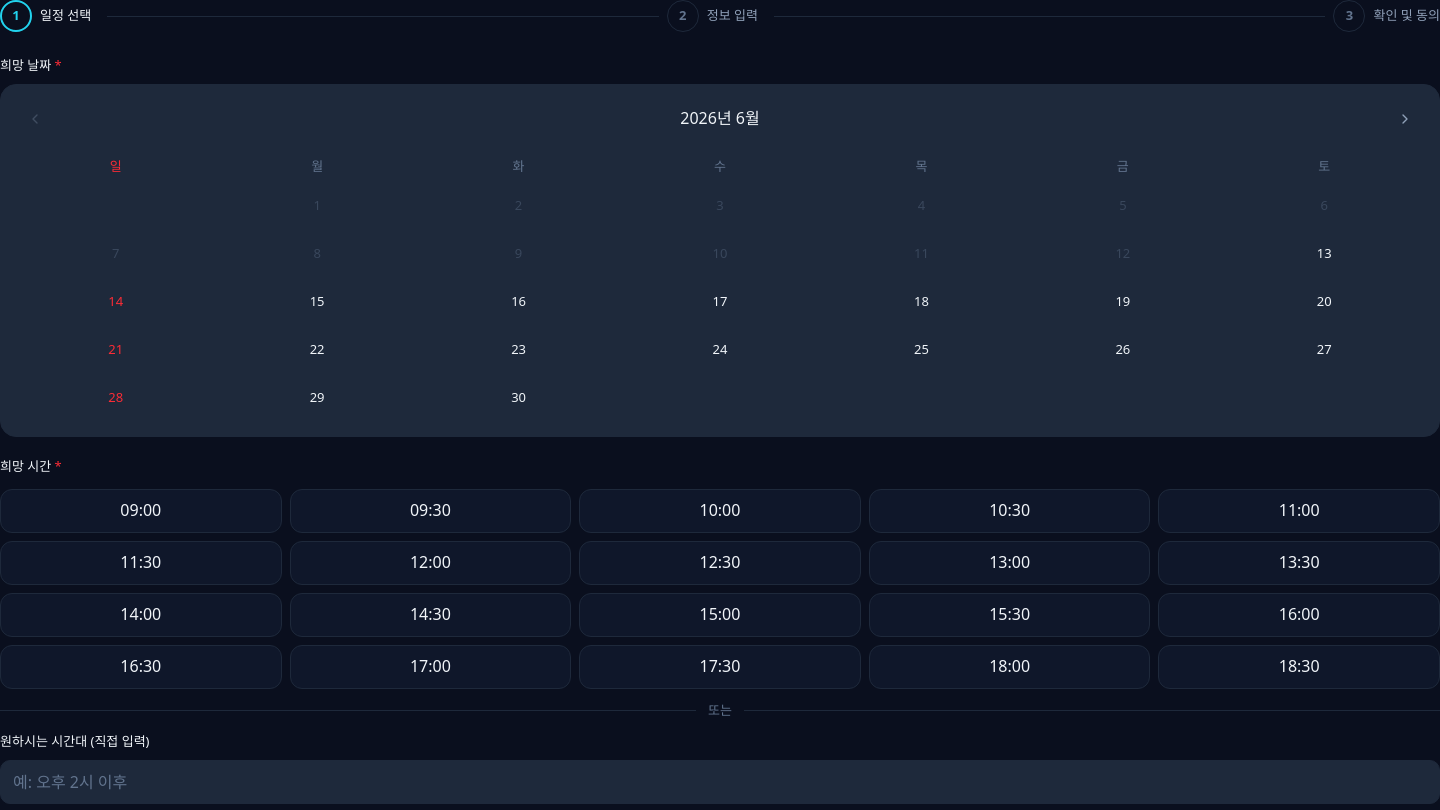
Test case: ReservationForm — 스텝 위저드 › 일정 선택 시 한국어 요약을 보여준다
What coordinates should you click on to do the following:
click the button named "다음 달"
I would click on:
 (1405, 118)
Its box is [1387,100,1423,136].
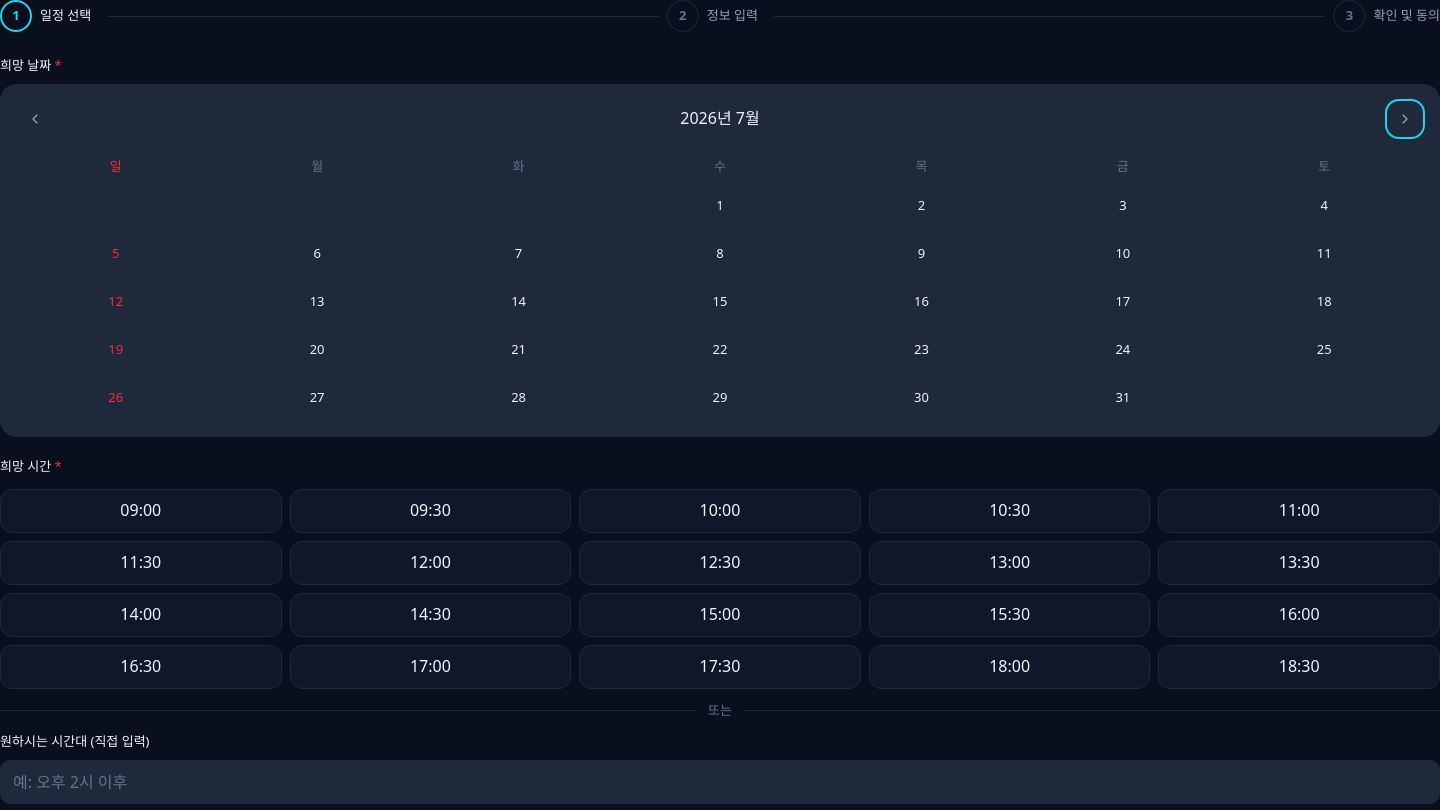
What coordinates should you click on to do the following:
click the button "15"
I would click on:
 (720, 302)
Its box is [621,280,819,324].
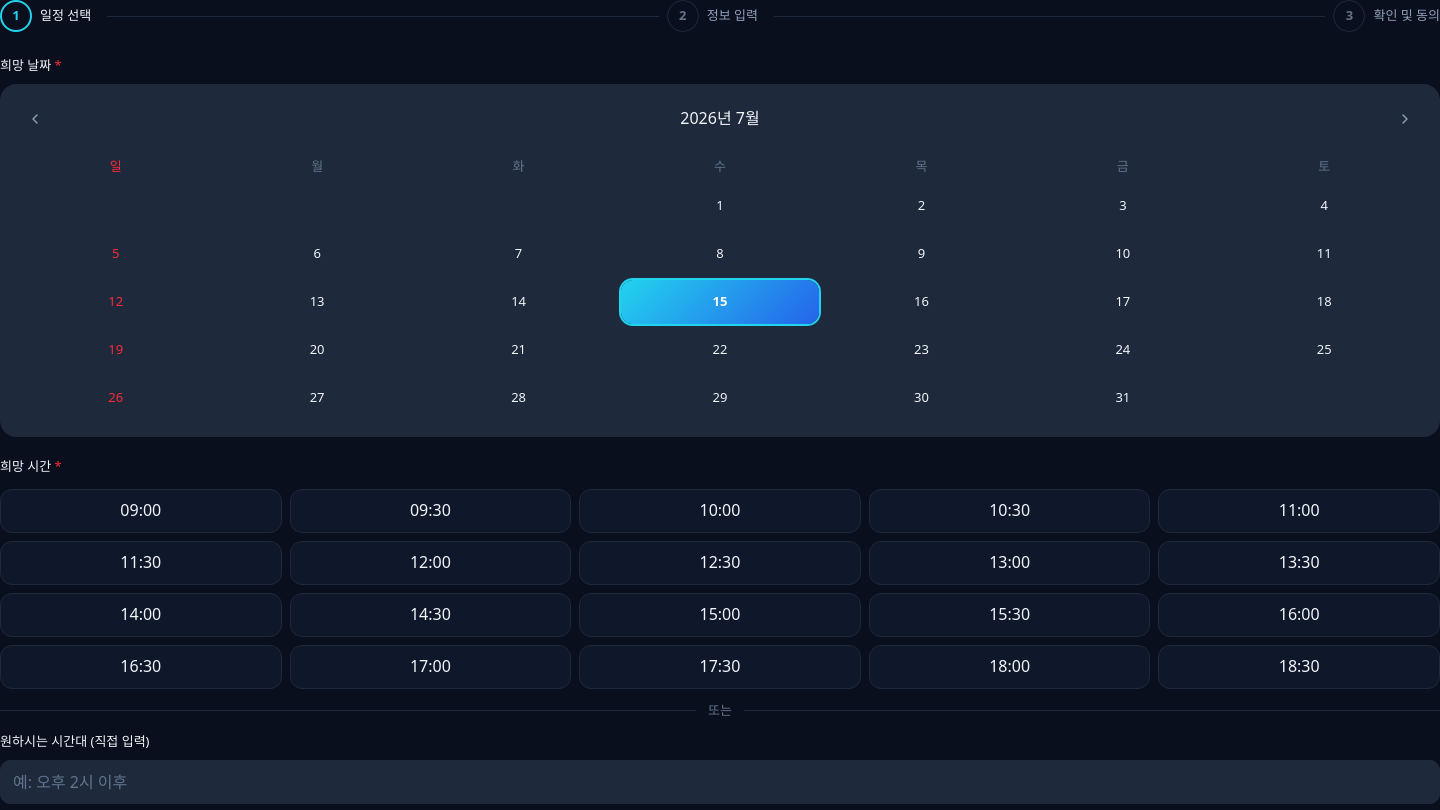
What coordinates should you click on to do the following:
click the button "14:00"
I would click on:
 (141, 614)
Its box is [0,592,282,636].
(page scrolled)
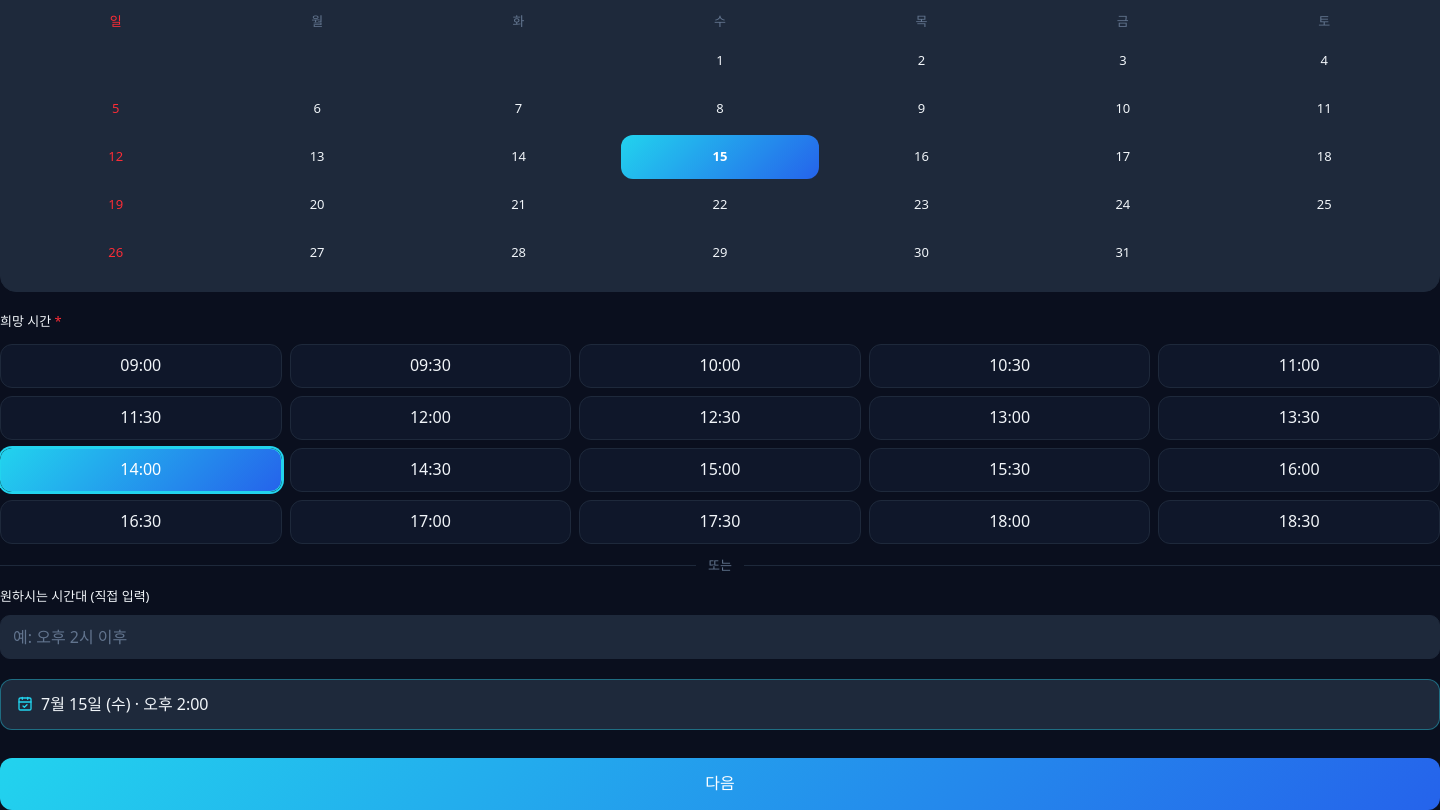
Now the text "7월 15일 (수) · 오후 2:00" is shown, box [41,692,208,717]
